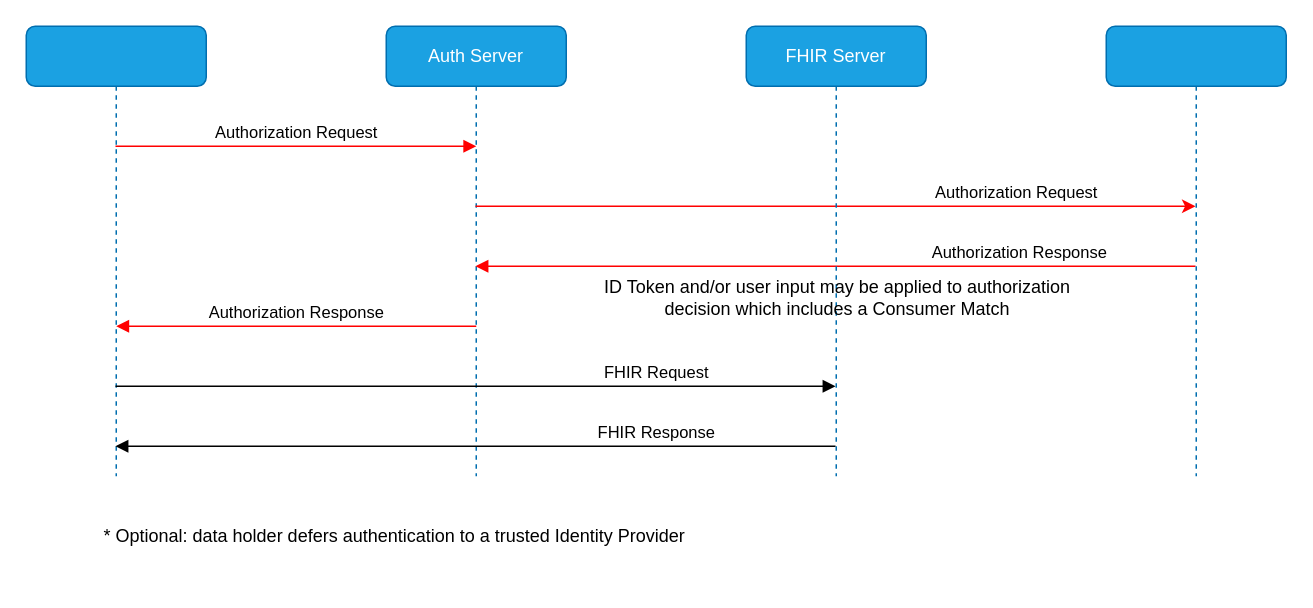
The diagram is 1313 pixels wide and 608 high, and some of its shapes have lost their labels. Each missing label, with the box of its shape:
IdP Auth Server *: (1105, 25, 1286, 476)
Patient App: (25, 25, 206, 476)
